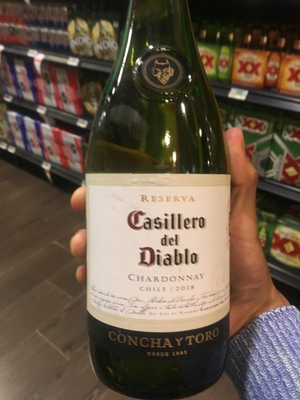casillero del diablo chardonnay: (75, 9, 240, 386)
